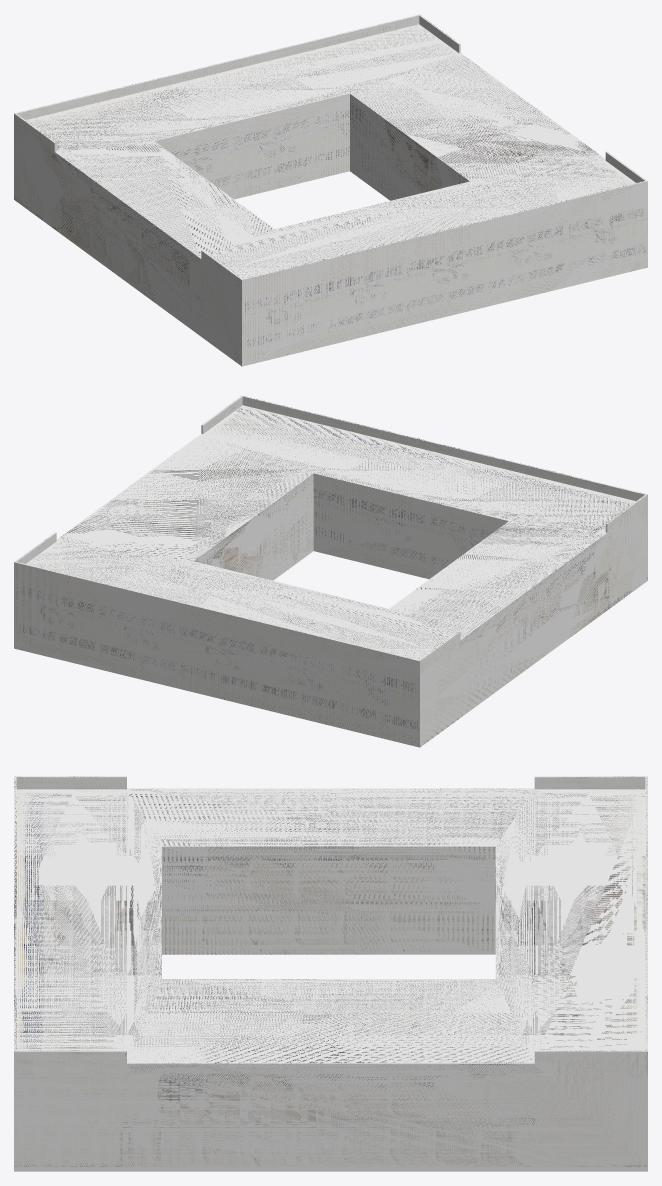
Rendered from Techni_Bldg2.dae.
The picture shows the model from 3 angles, top to bottom: view 1: azimuth 30°, elevation 25°; view 2: azimuth 150°, elevation 25°; view 3: azimuth 270°, elevation 25°; orthographic projection. The views are drawn at different scales.
Visible parts, largest first — view 1: group_0 (×8); view 2: group_0 (×8); view 3: group_0 (×7).
Part boxes in pixels (x1,y1,x2,y2): group_0 (×8): [14, 14, 647, 366]; group_0 (×8): [14, 395, 647, 747]; group_0 (×7): [14, 776, 647, 1171].
Size of the model in its own units: 1399 by 1361 by 284.
8 materials, 7 textured.
